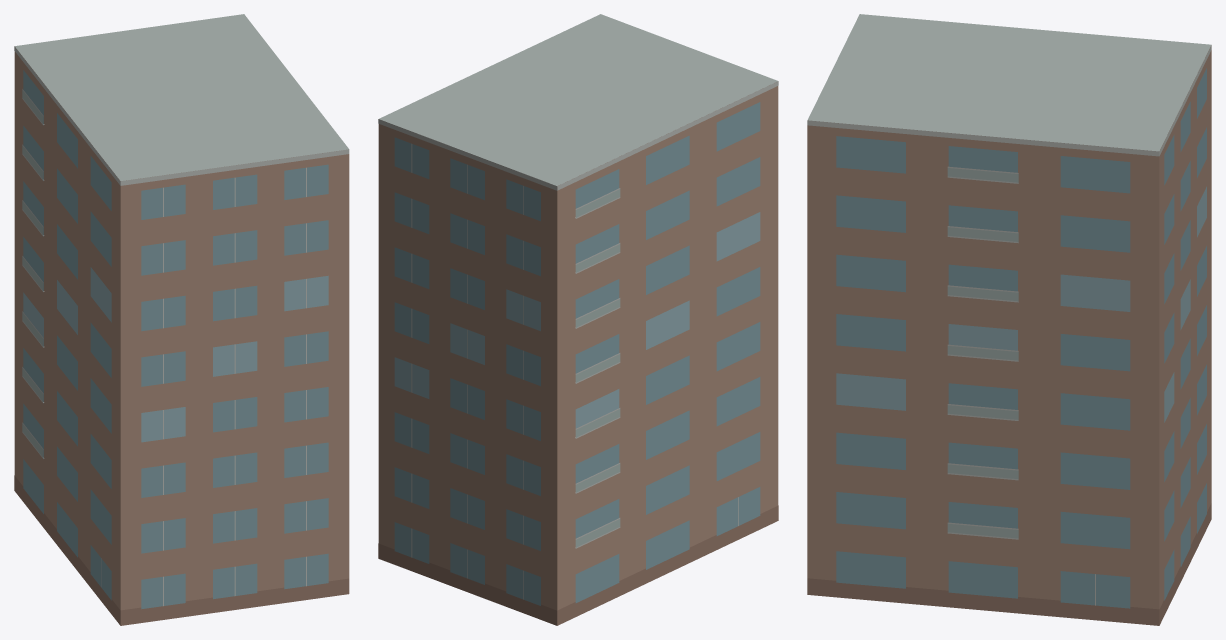
File: survey-upis-33011862.glb
The picture shows the model from 3 angles, left to right: view 1: azimuth 30°, elevation 25°; view 2: azimuth 150°, elevation 25°; view 3: azimuth 270°, elevation 25°; orthographic projection. The views are drawn at different scales.
Parts seen in each view (by area): view 1: survey-upis-33011862.tmp; view 2: survey-upis-33011862.tmp; view 3: survey-upis-33011862.tmp.
Boxes of the visible parts, left/top/right/bottom form: survey-upis-33011862.tmp: left=14, top=14, right=349, bottom=625; survey-upis-33011862.tmp: left=378, top=14, right=778, bottom=625; survey-upis-33011862.tmp: left=807, top=14, right=1211, bottom=625.
Bounding box in the file's own units: 14.36 × 23.1 × 17.85.
